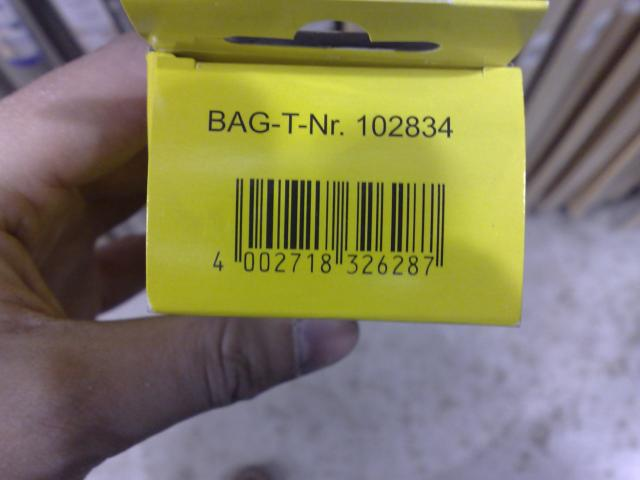Barkod: (232, 176, 446, 254)
